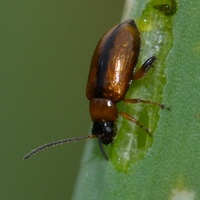insect: (24, 19, 166, 158)
